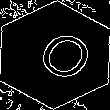O_SW: (19, 22, 91, 88)
